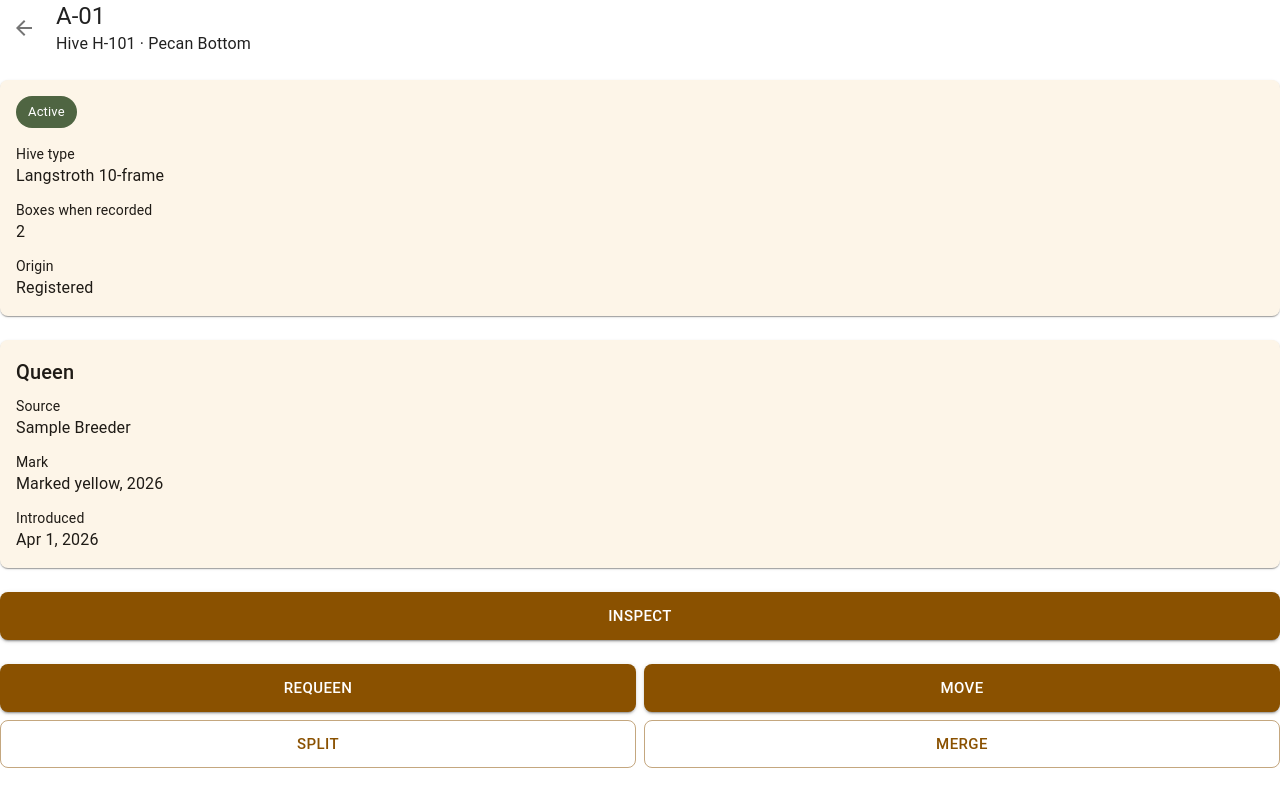
Test: ColonyDetail › should record the new queen and show her when the colony is requeened
Click the button "Requeen" at (318, 688), box [0,664,636,712]
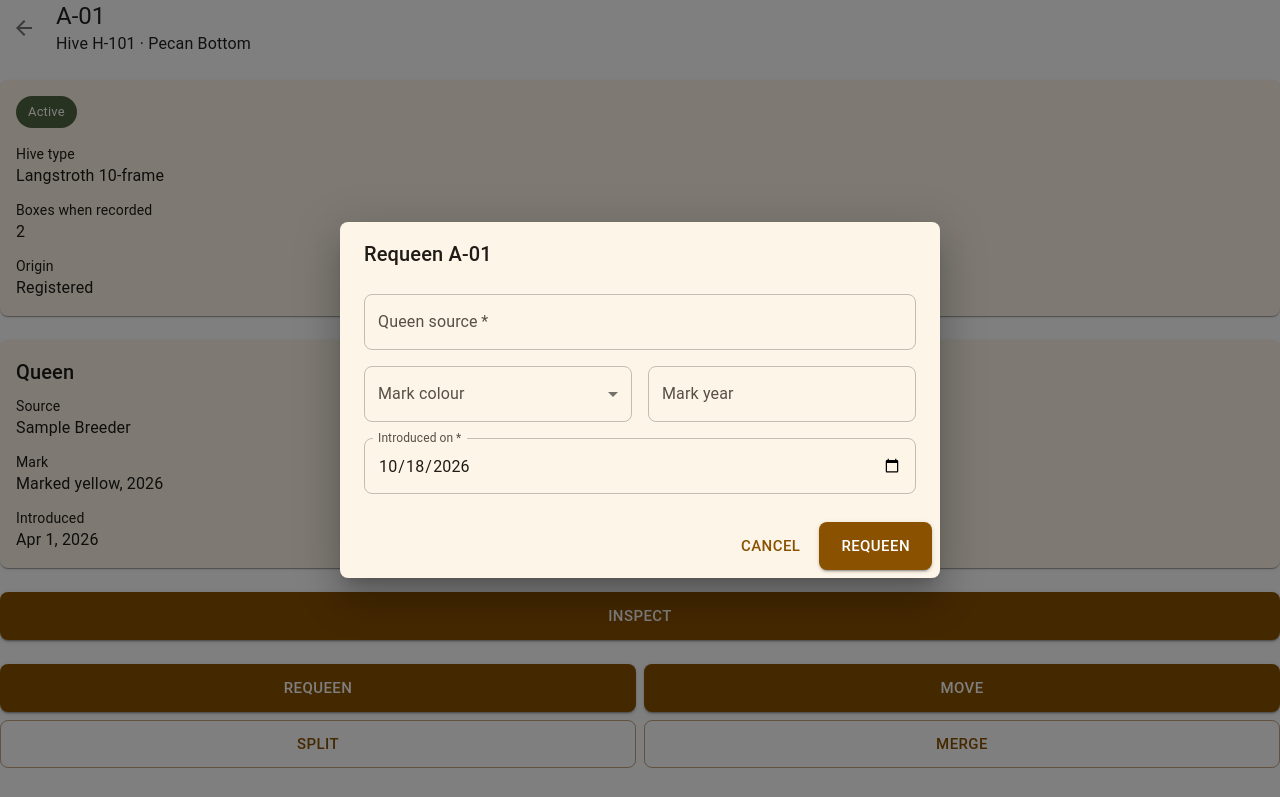
Type "Raised here" into the field labelled "Queen source *" at (640, 322), box [364,294,916,350]
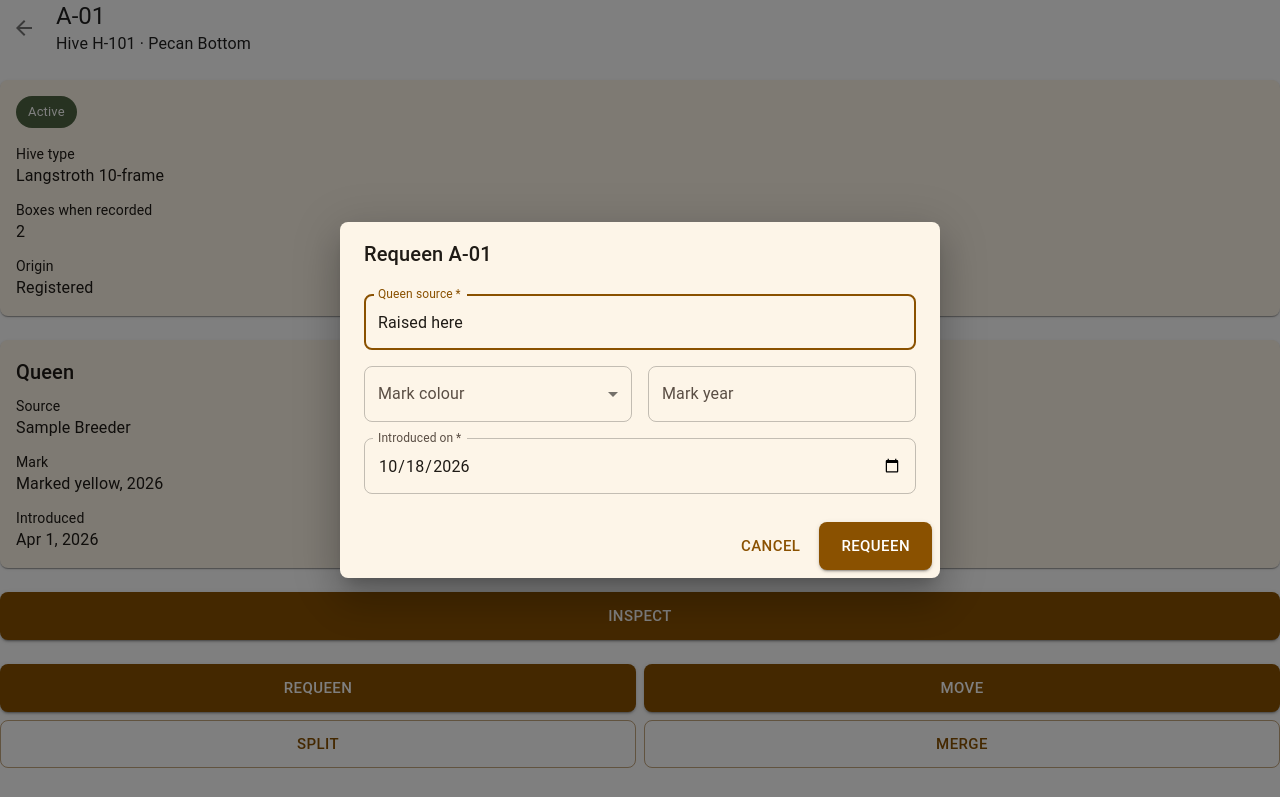
Click the button "Requeen" at (876, 546), box [819,522,932,570]
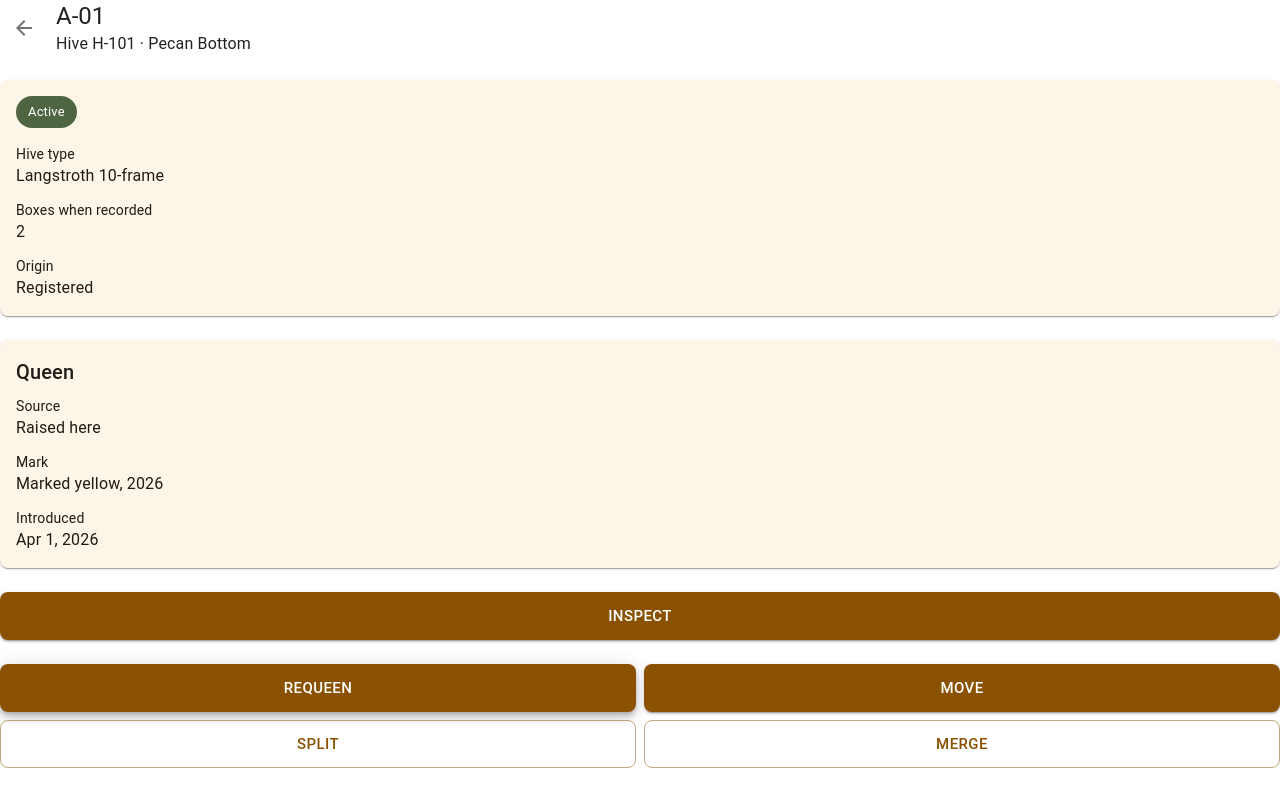
Now the dialog is gone
Now the text "Raised here" is shown, box [16,418,101,437]
